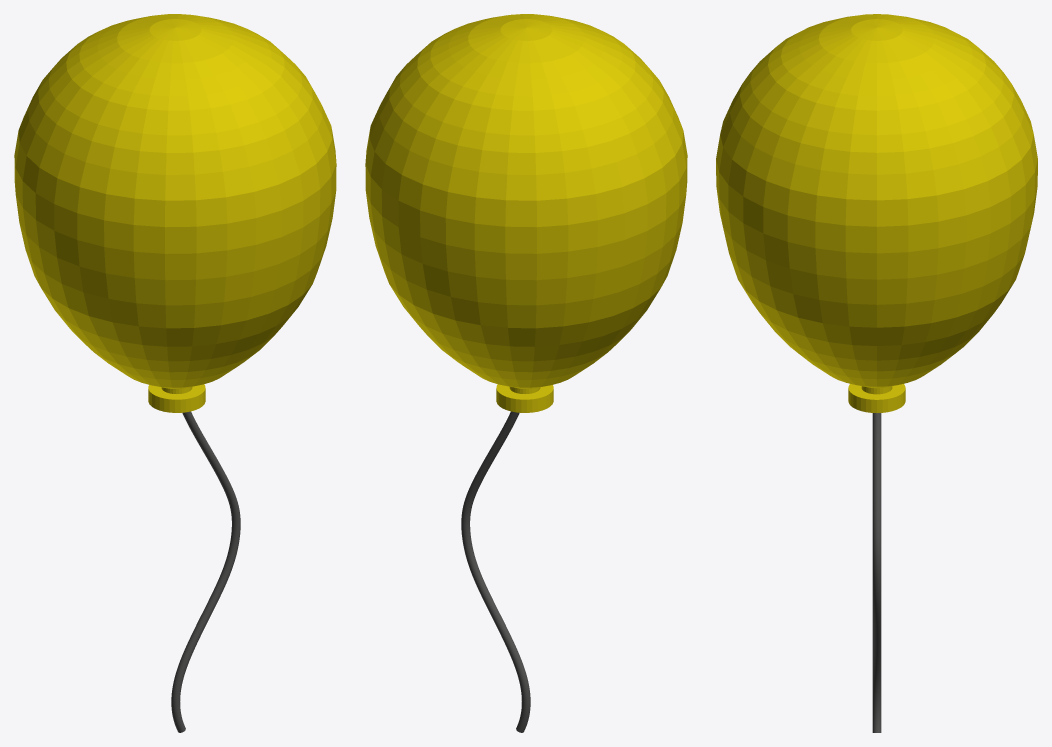
Rendered from ss_balloon3.gltf.
3 views of the same model, side by side, from view 1: azimuth 30°, elevation 25°; view 2: azimuth 150°, elevation 25°; view 3: azimuth 270°, elevation 25° (orthographic).
Parts seen in each view (by area): view 1: Cylinder, NurbsPath; view 2: Cylinder, NurbsPath; view 3: Cylinder, NurbsPath.
Boxes of the visible parts, x1,y1,x2,y2 form: Cylinder: (14,14,336,412); NurbsPath: (171,411,240,732); Cylinder: (365,14,687,412); NurbsPath: (461,411,530,732); Cylinder: (716,14,1037,412); NurbsPath: (872,413,881,732).
Bounding box in the file's own units: 0.5947 × 1.43 × 0.5947.
